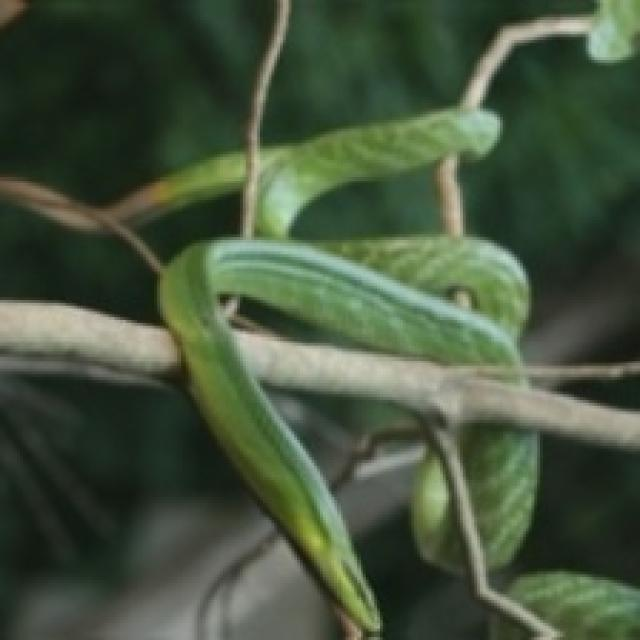red-tailed green ratsnake: (160, 109, 530, 631), (160, 237, 517, 634), (0, 154, 245, 233), (456, 425, 539, 568), (463, 429, 534, 560), (509, 571, 640, 640), (412, 450, 466, 573), (494, 622, 529, 640)
